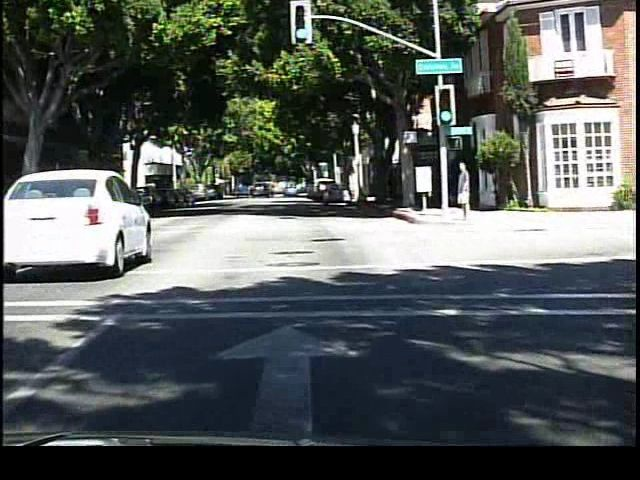person: (453, 158, 475, 219)
